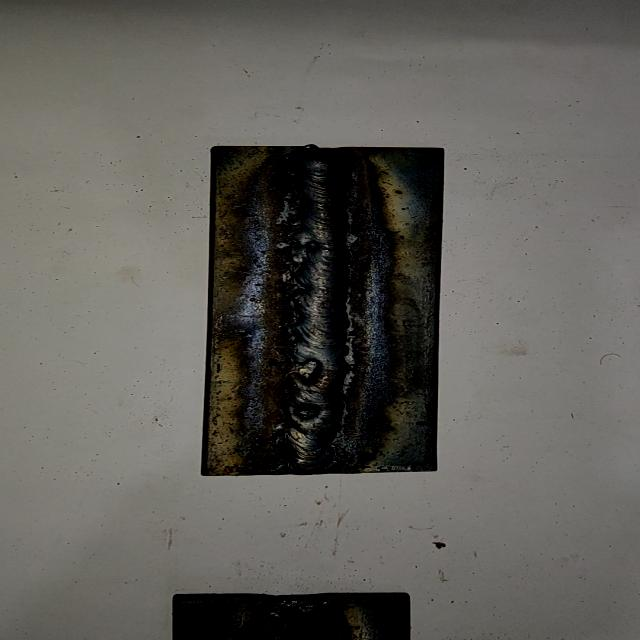Bad Weld: (285, 152, 354, 470)
Defect: (266, 348, 369, 394), (264, 602, 335, 640)
